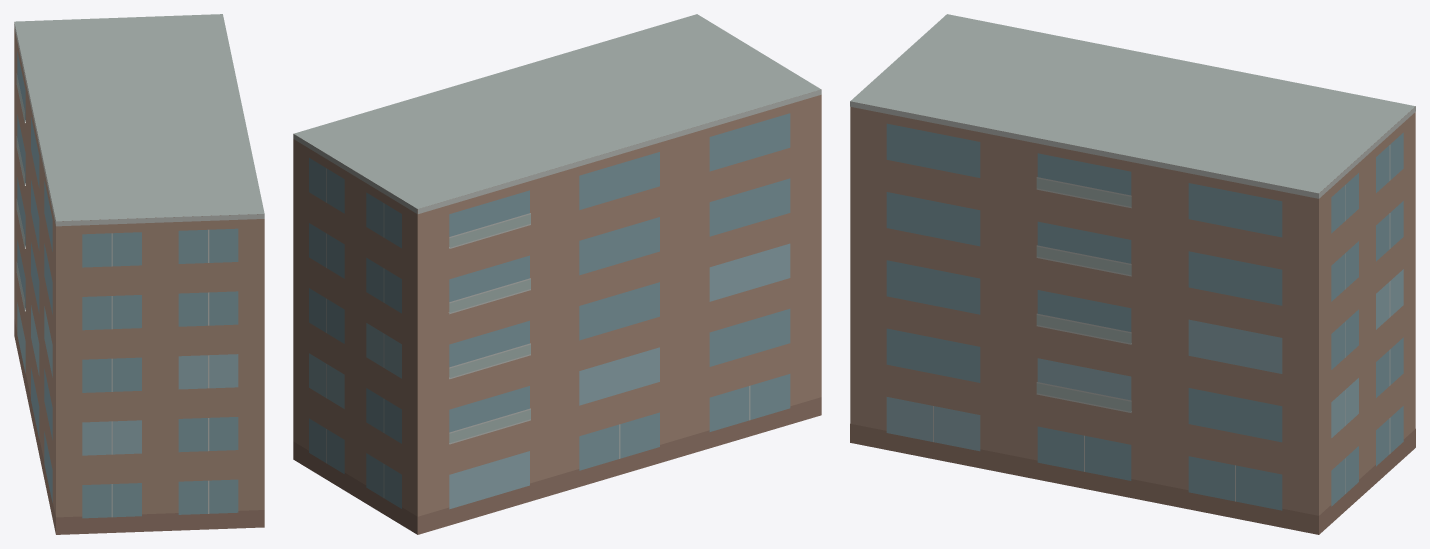
Rendered from survey-upis-32636435.glb.
The picture shows the model from 3 angles, left to right: view 1: azimuth 30°, elevation 25°; view 2: azimuth 150°, elevation 25°; view 3: azimuth 270°, elevation 25°; orthographic projection. The views are drawn at different scales.
Parts seen in each view (by area): view 1: survey-upis-32636435.tmp; view 2: survey-upis-32636435.tmp; view 3: survey-upis-32636435.tmp.
Part boxes in pixels (bbox=[...]): survey-upis-32636435.tmp: bbox=[14, 14, 264, 534]; survey-upis-32636435.tmp: bbox=[293, 14, 821, 534]; survey-upis-32636435.tmp: bbox=[850, 14, 1415, 534].
Size of the model in its own units: 17.19 by 15.25 by 22.9.
